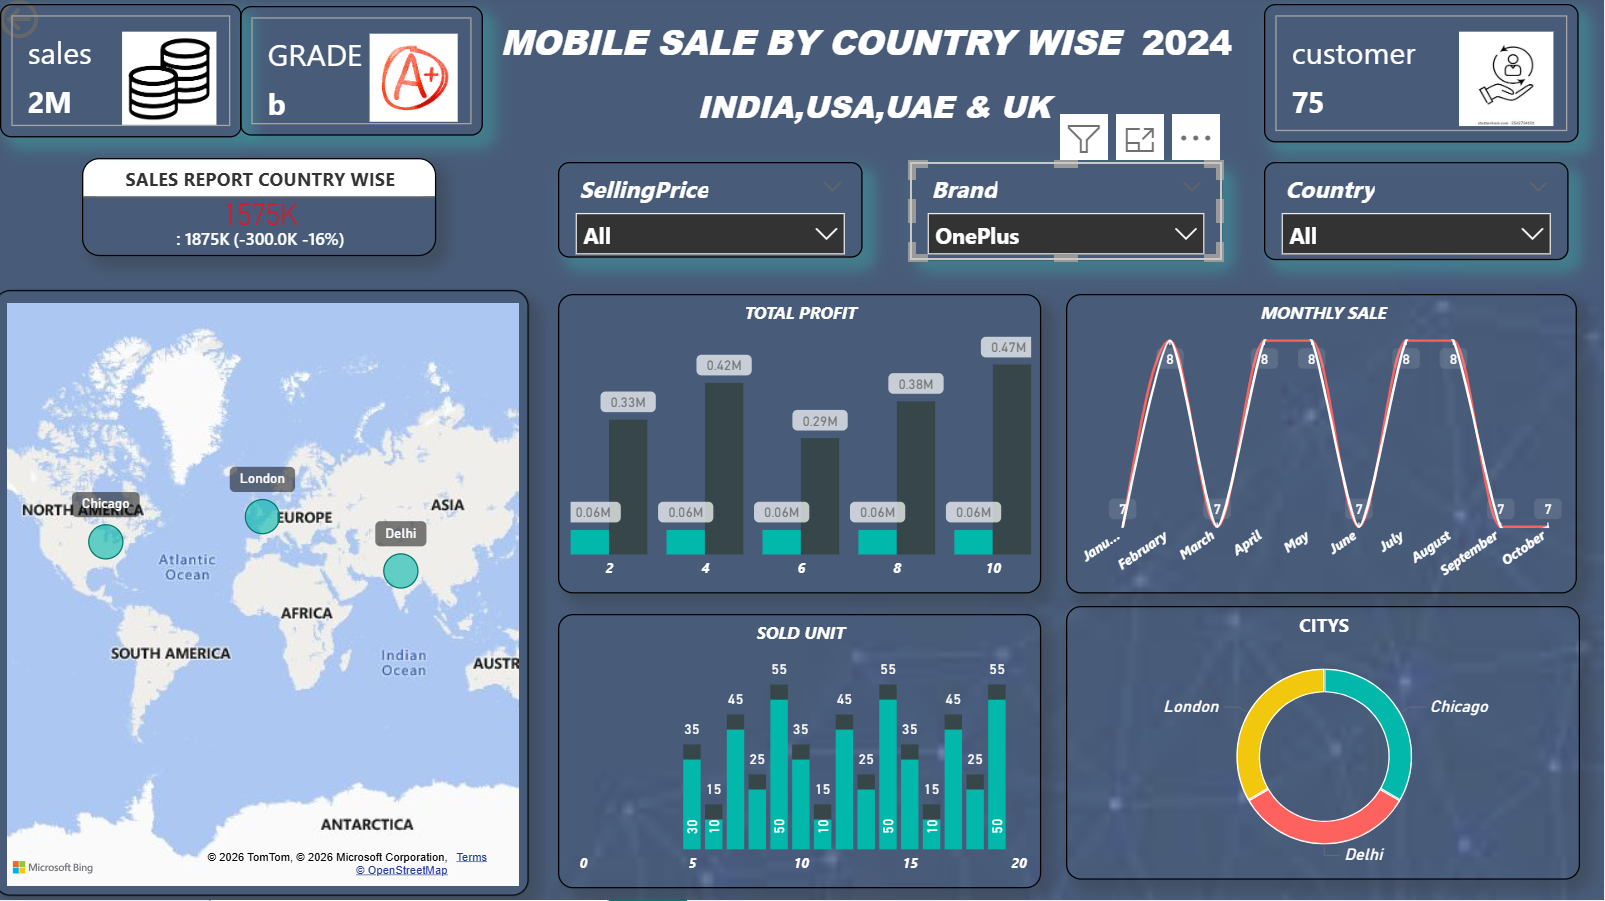

What the dashboard file says about the page in this screenshot:
{"tool":"powerbi","page":{"name":"mobile sales by each country","canvas":[1280,720],"ordinal":0},"visuals":[{"type":"map","fields":{"Category":["Mobile_Sales.City"],"Size":["Sum(Mobile_Sales.SellingPrice)"]},"box":[0,235,425,481.7],"z":0},{"type":"columnChart","title":"SOLD UNIT","fields":{"Category":["Mobile_Sales.Discount"],"Y":["Sum(Mobile_Sales.UnitsSold)","CountNonNull(Mobile_Sales.OneYearWarranty)"]},"box":[448,492,384,218],"z":1000},{"type":"donutChart","title":"CITYS","fields":{"Y":["Sum(Mobile_Sales.UnitsSold)"],"Category":["Mobile_Sales.City"]},"box":[851.9,486.4,408.5,217.7],"z":2000},{"type":"lineChart","title":"MONTHLY SALE","fields":{"Category":["dates.dates.Variation.Date Hierarchy.Month","dates.dates.Variation.Date Hierarchy.Day"],"Y":["CountNonNull(Mobile_Sales.Brand)"],"Y2":["Sum(Mobile_Sales.Profit)"]},"box":[852,238,406,238],"z":3000},{"type":"kpi","title":"SALES REPORT COUNTRY WISE","fields":{"Indicator":["Sum(Mobile_Sales.CostPrice)"],"TrendLine":["Mobile_Sales.Profit"],"Goal":["Sum(Mobile_Sales.SellingPrice)"]},"box":[69.9,130.3,281.3,77.9],"z":4000},{"type":"slicer","fields":{"Values":["Mobile_Sales.SellingPrice"]},"box":[448,134,242,76],"z":5000},{"type":"slicer","fields":{"Values":["Mobile_Sales.Brand"]},"box":[728,134,248,78],"z":6000},{"type":"slicer","fields":{"Values":["Mobile_Sales.Country"]},"box":[1010,134,242,78],"z":7000},{"type":"textbox","box":[371.9,14.3,642.1,52.5],"z":8000},{"type":"lineClusteredColumnComboChart","title":"TOTAL PROFIT","fields":{"Category":["Mobile_Sales.UnitsSold","Mobile_Sales.Country"],"Y":["Sum(Mobile_Sales.Profit)","Mobile_Sales.sumof"]},"box":[448,238,384,238],"z":9000},{"type":"textbox","box":[424,66,550,44],"z":10000},{"type":"actionButton","box":[0,0,100,40],"z":11000},{"type":"cardVisual","fields":{"Data":["Mobile_Sales.countasell"]},"box":[1010,8,250,110],"z":12000},{"type":"cardVisual","fields":{"Data":["Mobile_Sales.sumof"]},"box":[4,8,192,106],"z":13000},{"type":"cardVisual","fields":{"Data":["Mobile_Sales.grade"]},"box":[196,10,193,103],"z":14000}]}

Visuals, with their boxes in screenshot pixels (x1, y1, x2, y2), scaled from the page's 1280x720 canvas onto the 1605x901 screenshot:
map - Mobile_Sales.City x Sum(Mobile_Sales.SellingPrice): bbox=[0, 294, 533, 897]
"SOLD UNIT" columnChart: bbox=[562, 616, 1043, 888]
"CITYS" donutChart: bbox=[1068, 609, 1580, 881]
"MONTHLY SALE" lineChart: bbox=[1068, 298, 1577, 596]
"SALES REPORT COUNTRY WISE" kpi: bbox=[88, 163, 440, 261]
slicer - Mobile_Sales.SellingPrice: bbox=[562, 168, 865, 263]
slicer - Mobile_Sales.Brand: bbox=[913, 168, 1224, 265]
slicer - Mobile_Sales.Country: bbox=[1266, 168, 1570, 265]
textbox: bbox=[466, 18, 1271, 84]
"TOTAL PROFIT" lineClusteredColumnComboChart: bbox=[562, 298, 1043, 596]
textbox: bbox=[532, 83, 1221, 138]
actionButton: bbox=[0, 0, 125, 50]
cardVisual - Mobile_Sales.countasell: bbox=[1266, 10, 1580, 148]
cardVisual - Mobile_Sales.sumof: bbox=[5, 10, 246, 143]
cardVisual - Mobile_Sales.grade: bbox=[246, 13, 488, 141]
